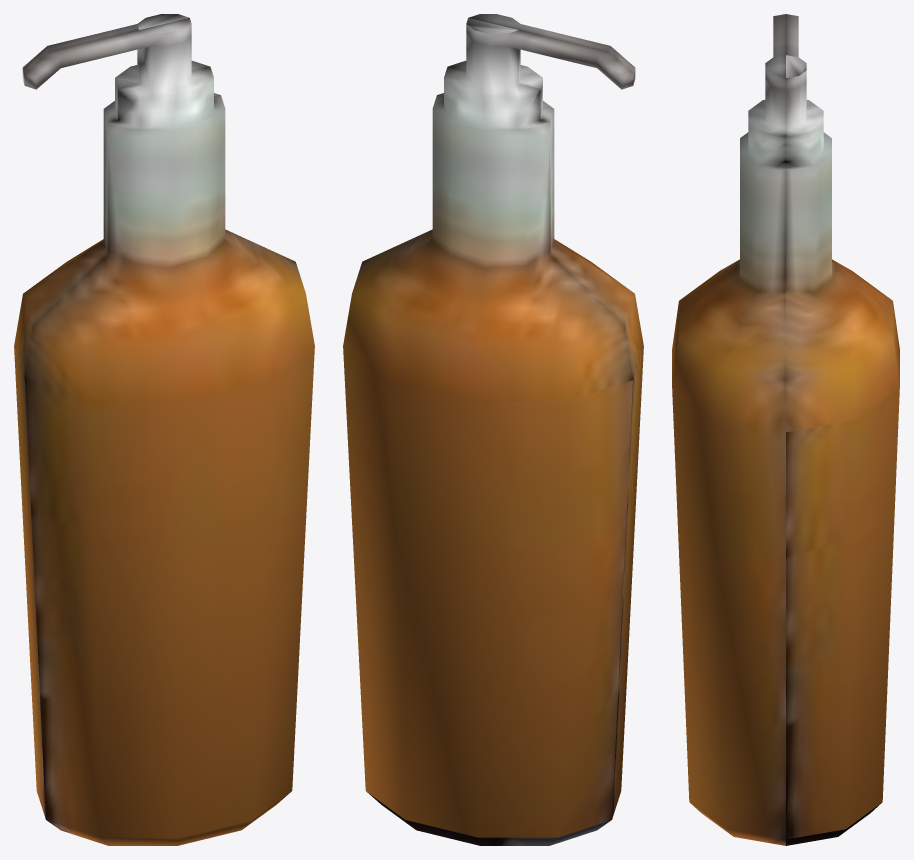
Rendered from soap_dispenser.FBX.
3 renders of one model, left to right at view 1: azimuth 30°, elevation 25°; view 2: azimuth 150°, elevation 25°; view 3: azimuth 270°, elevation 25°, orthographic. The views are drawn at different scales.
Visible parts, largest first — view 1: hand_soap; view 2: hand_soap; view 3: hand_soap.
Boxes of the visible parts, left/top/right/bottom form: hand_soap: left=14, top=14, right=314, bottom=845; hand_soap: left=343, top=14, right=643, bottom=845; hand_soap: left=672, top=14, right=899, bottom=845.
Bounding box in the file's own units: 6.21 × 16.6 × 4.68.
